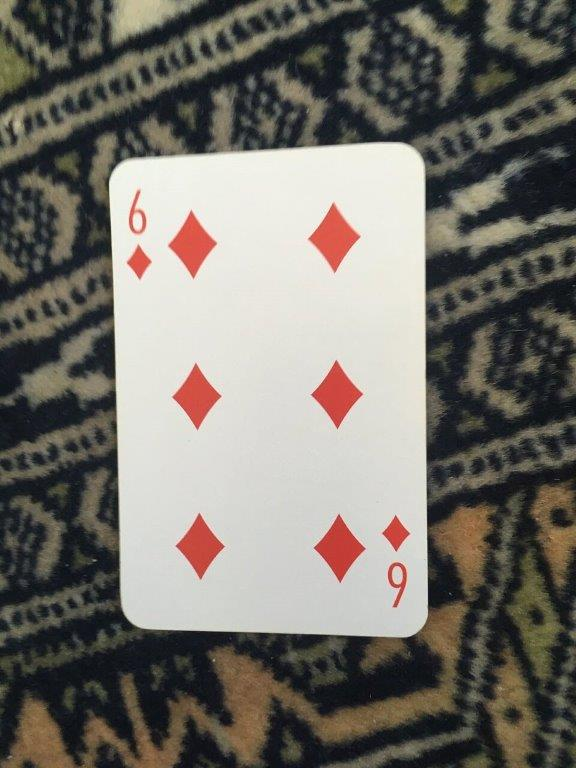6D: (105, 139, 432, 641)
